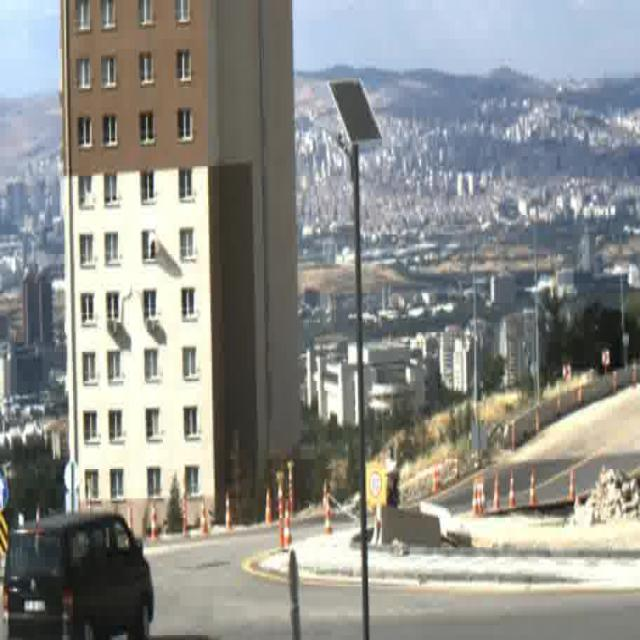Car: (0, 507, 154, 640)
Motorcycle: (382, 448, 400, 512)
